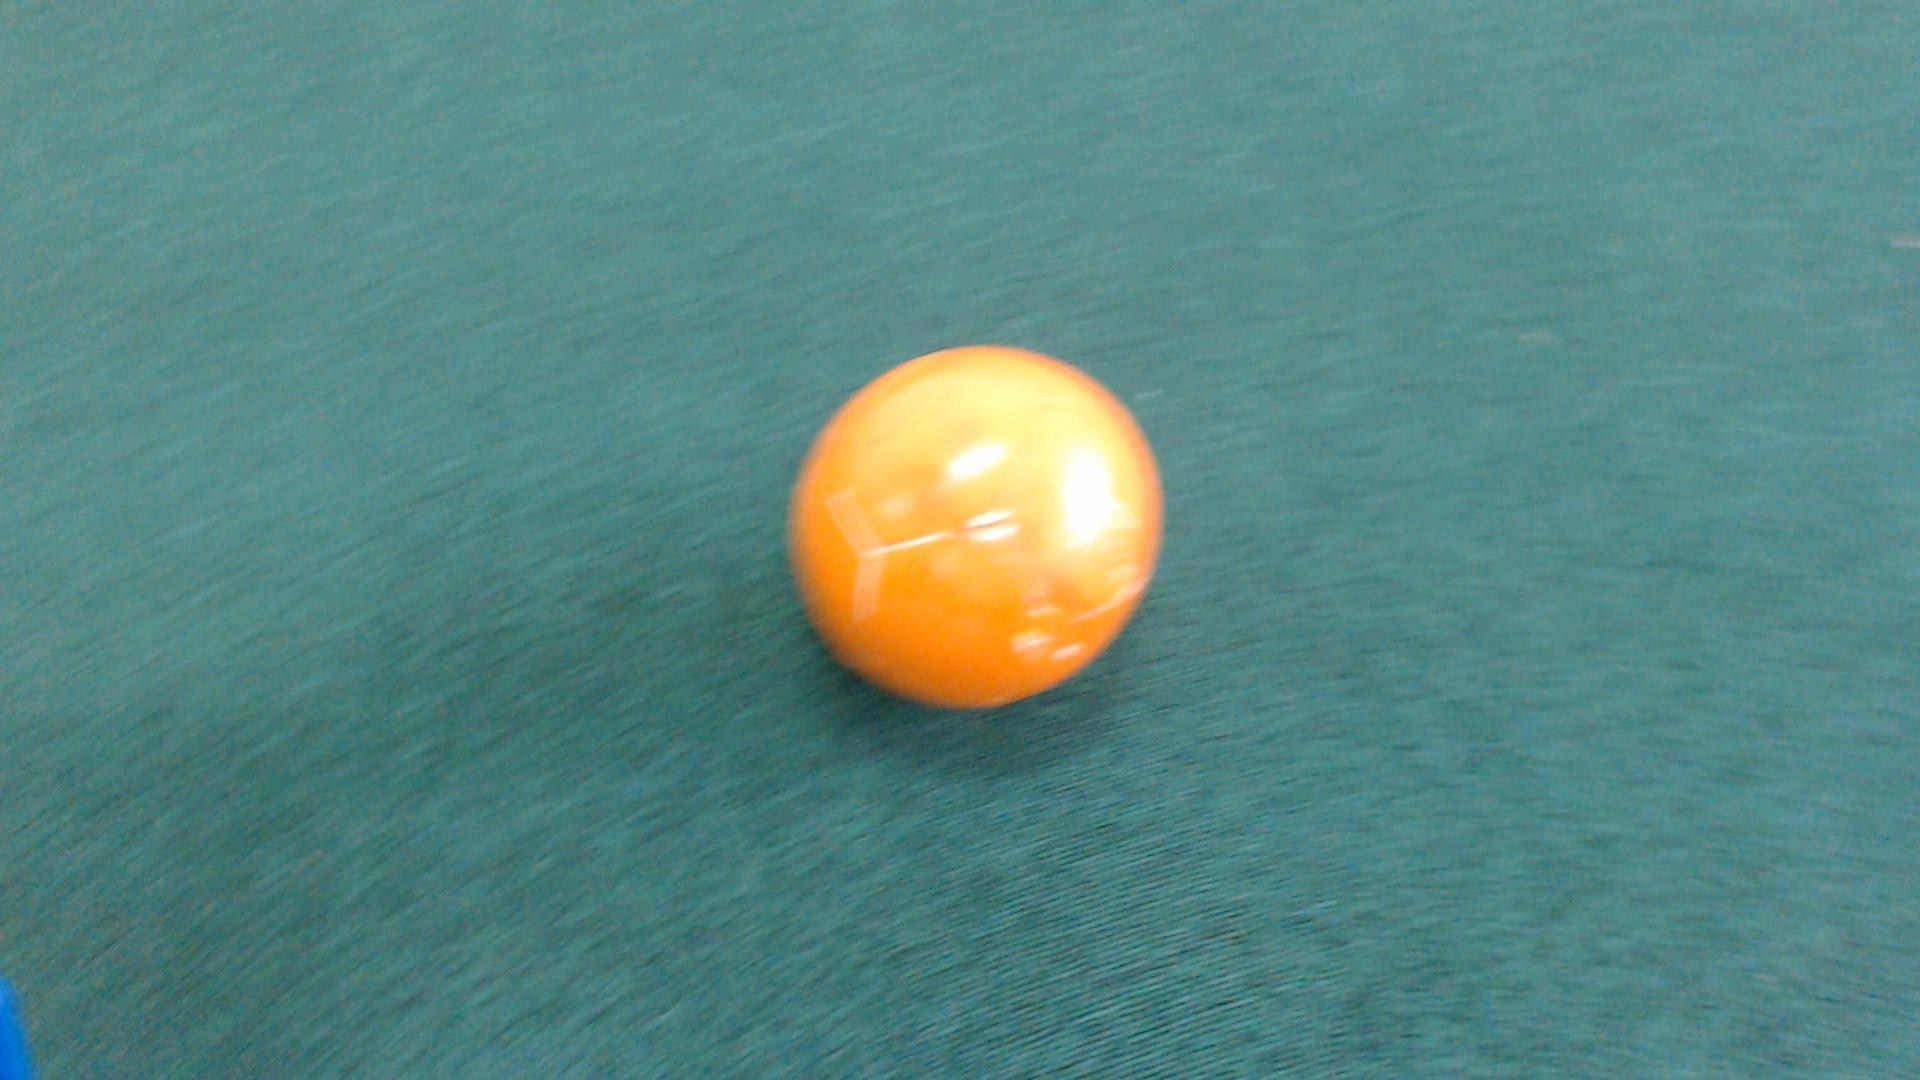bola: (727, 327, 1189, 732)
